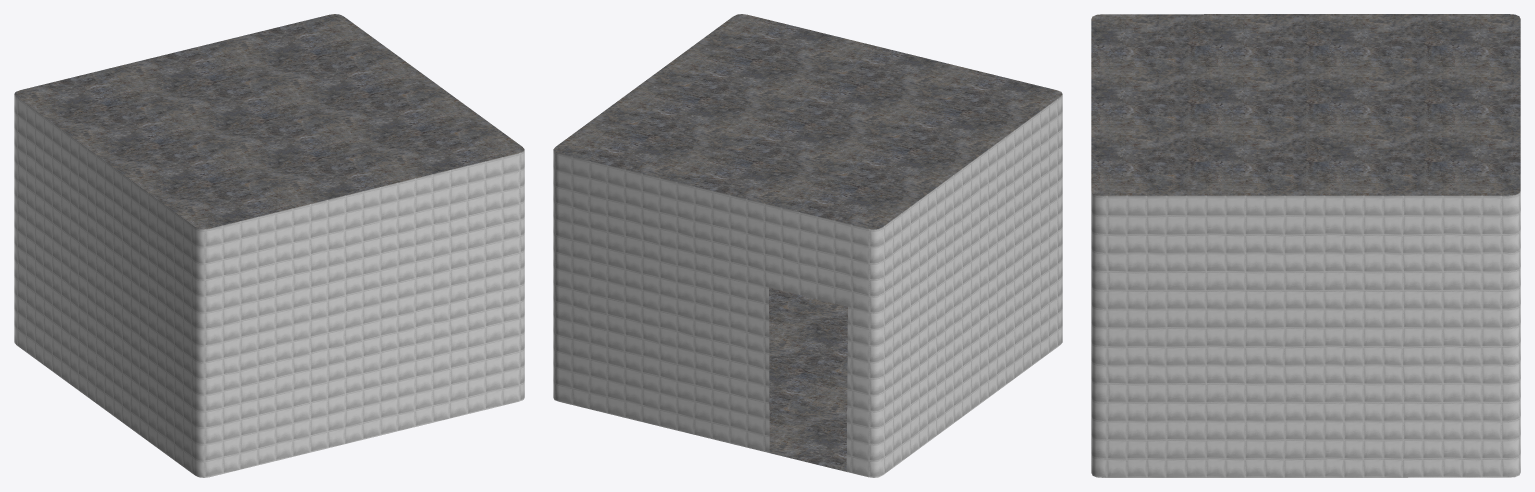
File: PaddedRoom.FBX
3 renders of one model, left to right at view 1: azimuth 30°, elevation 25°; view 2: azimuth 150°, elevation 25°; view 3: azimuth 270°, elevation 25°, orthographic. The views are drawn at different scales.
Parts seen in each view (by area): view 1: PaddedRoom; view 2: PaddedRoom; view 3: PaddedRoom.
Part boxes in pixels (box(x1,y1,x2,y2)): PaddedRoom: box(14, 14, 524, 477); PaddedRoom: box(553, 14, 1062, 477); PaddedRoom: box(1091, 14, 1520, 477).
Size of the model in its own units: 136 by 98.43 by 136.
